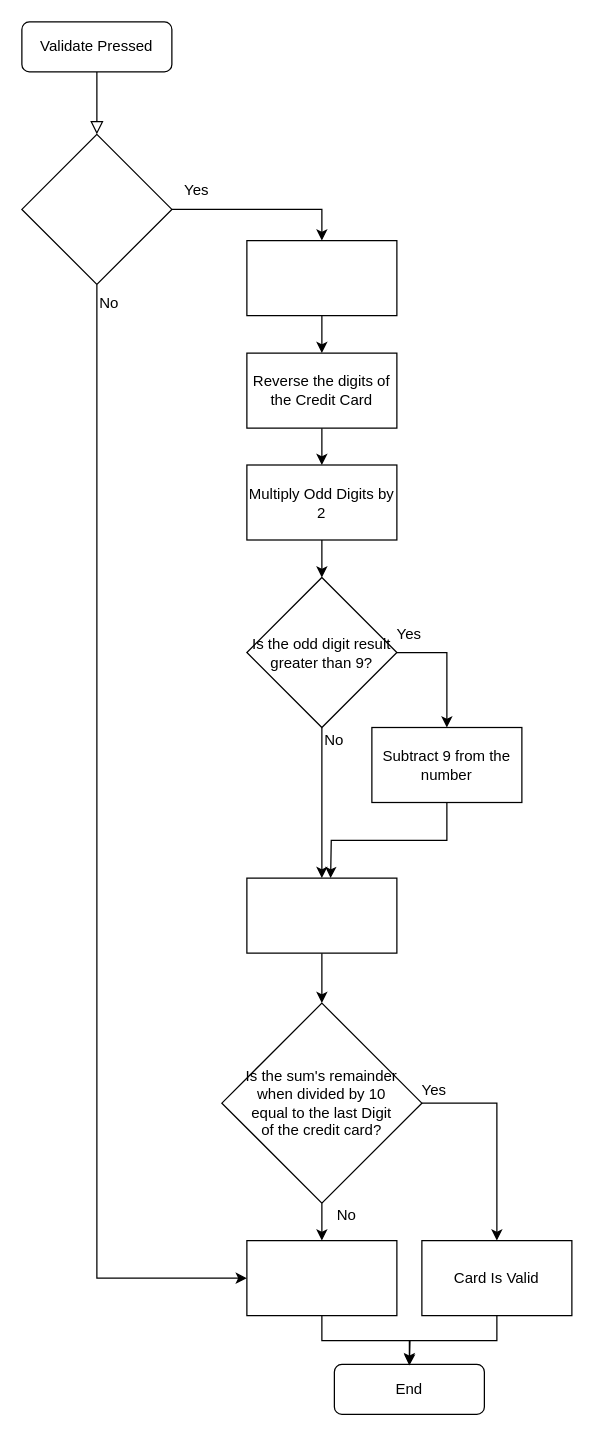
The diagram is 594 pixels wide and 1436 high, and some of its shapes have lost their labels. The centre of each missing label's shape, as x and y in pixels:
Add all Digits together to get a sum: (x=321, y=915)
Card is Invalid: (x=321, y=1277)
Does The Given Credit Card match any Issuers?: (x=96, y=208)
Remove the last Digit from the Credit Card number: (x=321, y=277)
